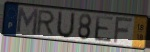8: (77, 13, 93, 42)
E: (94, 14, 115, 44)
F: (112, 17, 134, 45)
M: (16, 6, 40, 37)
R: (35, 9, 57, 37)
U: (55, 9, 76, 40)
